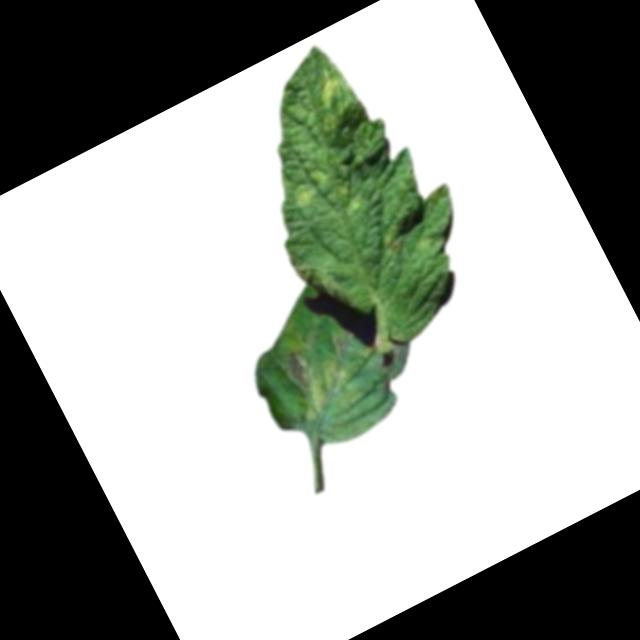Leaf_Mold: (277, 333, 361, 426), (312, 72, 349, 111), (289, 176, 324, 214)
